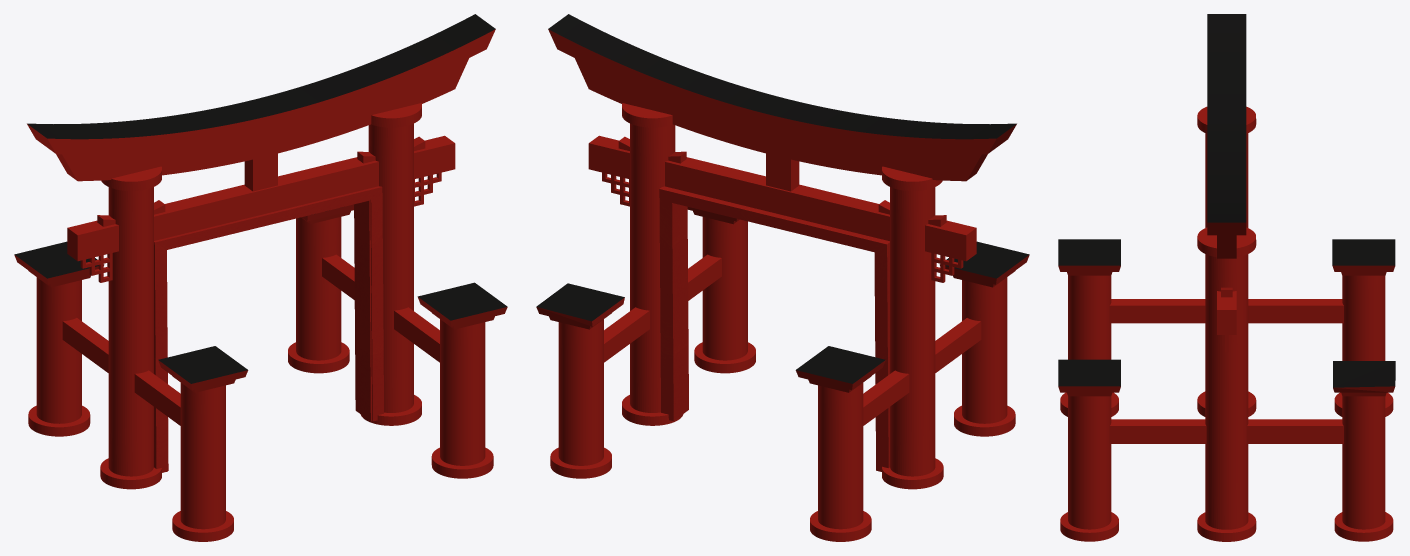
File: ArcoTorii.obj
3 views of the same model, side by side, from view 1: azimuth 30°, elevation 25°; view 2: azimuth 150°, elevation 25°; view 3: azimuth 270°, elevation 25° (orthographic). The views are drawn at different scales.
Parts seen in each view (by area): view 1: ArcoCompleto_Red, ArcoCompleto_Black; view 2: ArcoCompleto_Red, ArcoCompleto_Black; view 3: ArcoCompleto_Red, ArcoCompleto_Black.
Part boxes in pixels (x1,y1,x2,y2): ArcoCompleto_Red: (14, 29, 507, 541); ArcoCompleto_Black: (14, 14, 507, 383); ArcoCompleto_Red: (536, 29, 1029, 541); ArcoCompleto_Black: (536, 14, 1029, 383); ArcoCompleto_Red: (1058, 106, 1395, 541); ArcoCompleto_Black: (1058, 14, 1395, 387).
Size of the model in its own units: 45.47 by 35.65 by 31.09.
2 materials, 2 textured.
